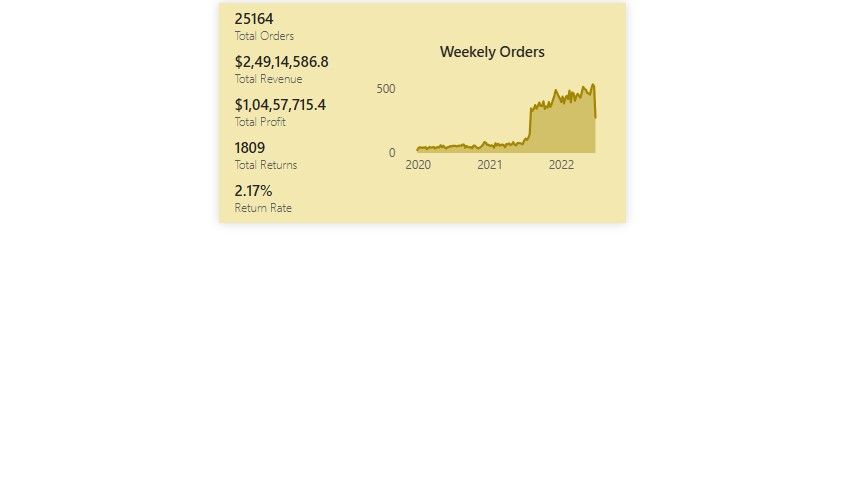

What the dashboard file says about the page in this screenshot:
{"tool":"powerbi","page":{"name":"Custom Tooltip","canvas":[370,200],"ordinal":4},"visuals":[{"type":"multiRowCard","fields":{"Values":["Measure Table.Total Orders","Measure Table.Total Revenue","Measure Table.Total Profit","Measure Table.Total Returns","Measure Table.Return Rate"]},"box":[9,0,128,200],"z":0},{"type":"areaChart","title":"Weekely Orders","fields":{"Y":["Measure Table.Total Orders"],"Category":["Calendar Lookup.Date Hierarchy.Start of Week"]},"box":[137,35,222,130],"z":1000}]}

Visuals, with their boxes on the page's 370x200 design canvas (x1, y1, x2, y2). These are canvas units, not pixel positions in the 849x491 screenshot, which may show the page scaled, cropped or inside an application window:
multiRowCard - Measure Table.Total Orders x Measure Table.Total Revenue: (left=9, top=0, right=137, bottom=200)
"Weekely Orders" areaChart: (left=137, top=35, right=359, bottom=165)
